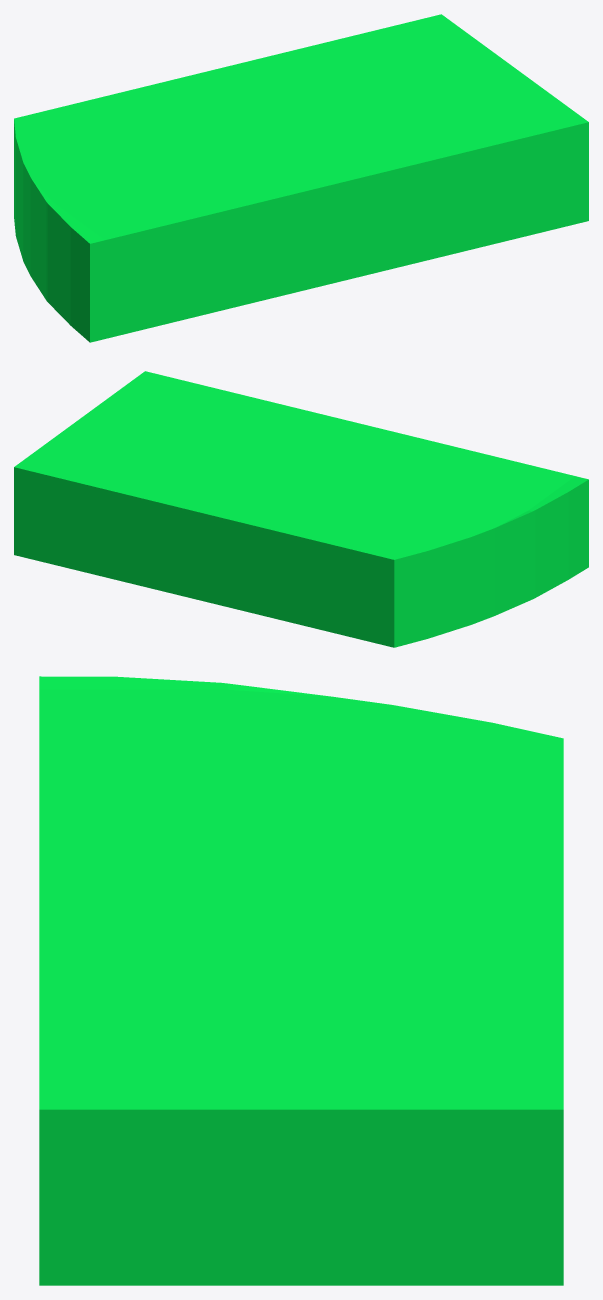
File: pezzoTetris5.fbx
3 renders of one model, top to bottom at view 1: azimuth 30°, elevation 25°; view 2: azimuth 150°, elevation 25°; view 3: azimuth 270°, elevation 25°, orthographic. The views are drawn at different scales.
Visible parts, largest first — view 1: Cube.001; view 2: Cube.001; view 3: Cube.001.
Part boxes in pixels (box(x1,y1,x2,y2)): Cube.001: box(14, 14, 588, 342); Cube.001: box(14, 371, 588, 647); Cube.001: box(39, 676, 563, 1285).
Bounding box in the file's own units: 104 × 19.77 × 52.99.
